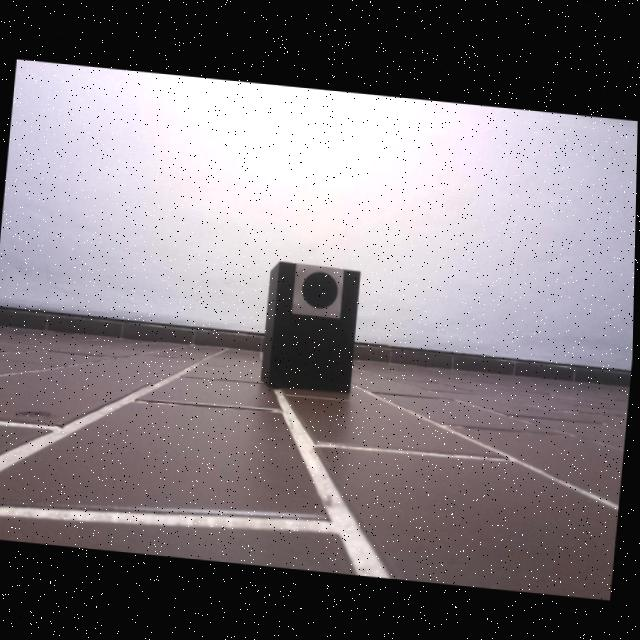CIRCLE: (301, 268, 341, 310)
